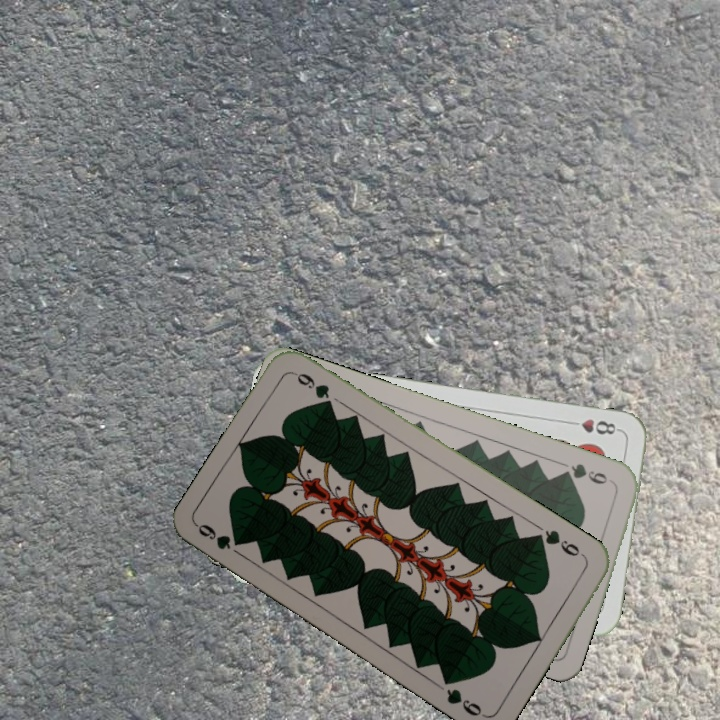G9: (531, 525, 589, 561), (557, 459, 617, 487), (193, 519, 241, 553)
H8: (564, 415, 623, 438)
